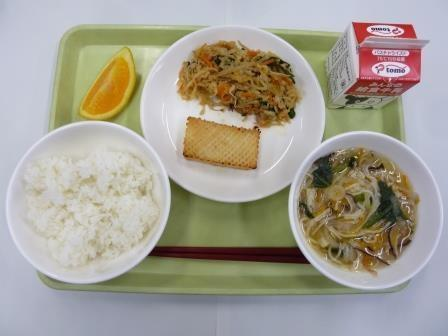Citrus: (63, 36, 143, 130)
Milk: (319, 17, 429, 112)
Rice: (12, 125, 169, 284)
Soups: (291, 138, 439, 284)
cookies: (174, 115, 269, 181)
salad with sauce: (173, 36, 302, 118)
